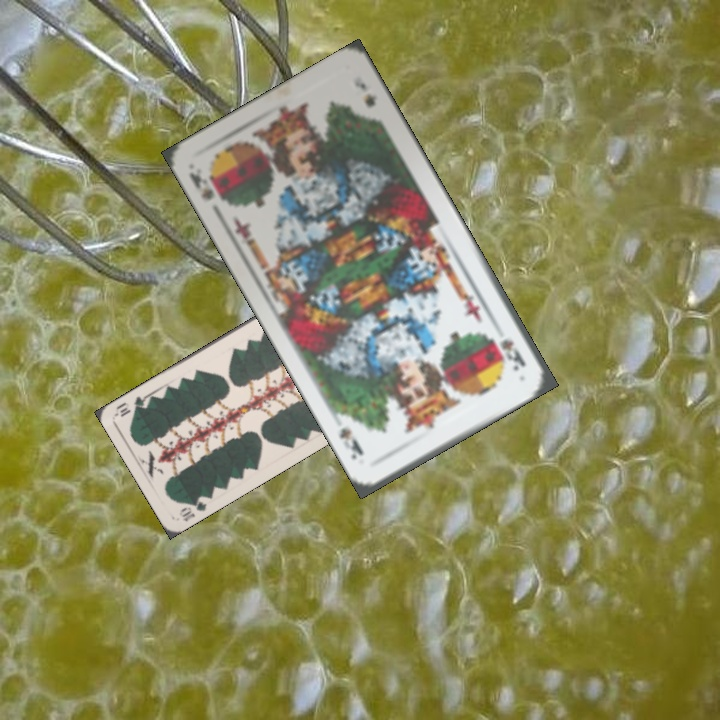G10: (177, 492, 210, 524)
SK: (495, 335, 529, 374), (185, 167, 217, 203)
